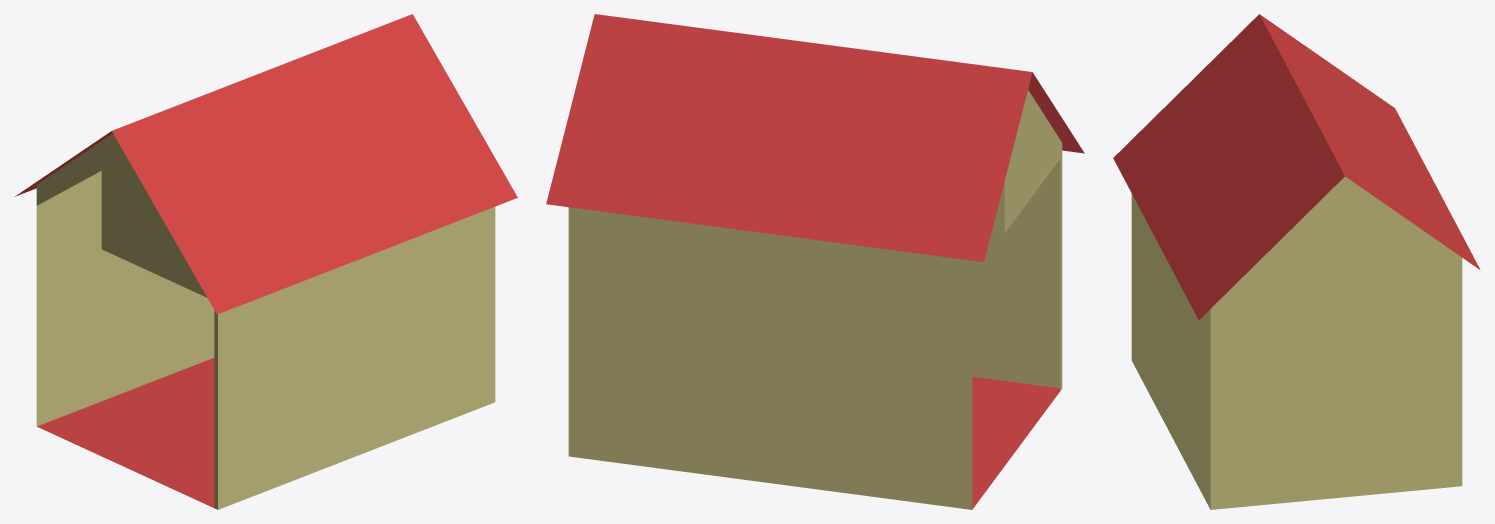
The picture shows the model from 3 angles, left to right: view 1: azimuth 30°, elevation 25°; view 2: azimuth 150°, elevation 25°; view 3: azimuth 270°, elevation 25°; orthographic projection. The views are drawn at different scales.
Bounding box in the file's own units: 14.44 × 11.88 × 11.68.
